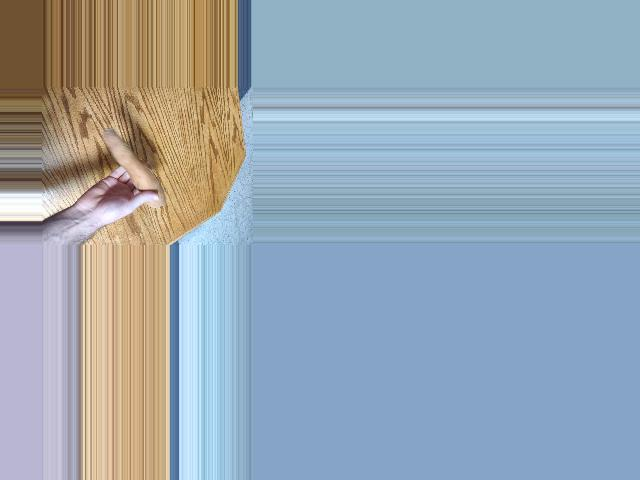sweet_potato: (100, 129, 161, 207)
